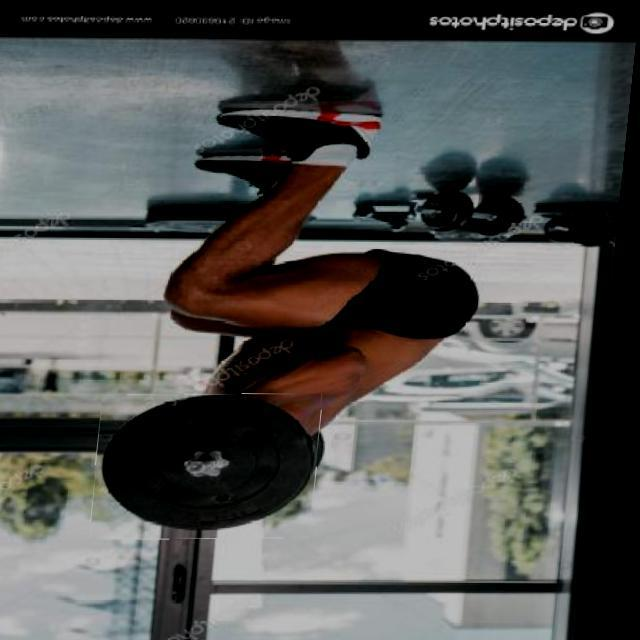barbell: (101, 393, 334, 540)
